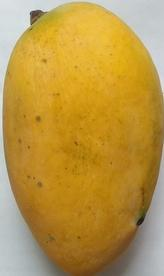Ripe: (1, 0, 164, 276)
